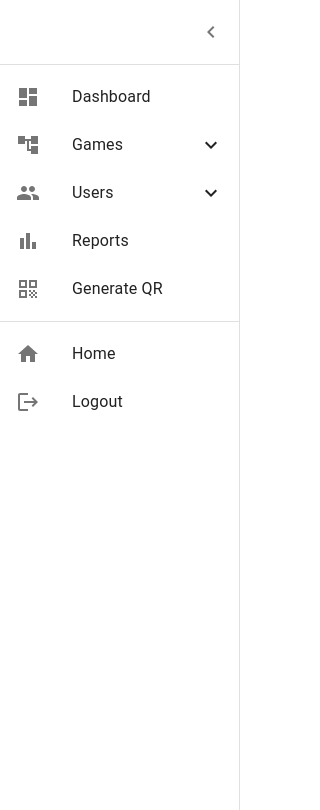
Test case: <SideMenu /> › User Management Button › should reveal 1 new button when clicked as an admin
Click the button with test id "user-manage-item". click: (93, 192)
box: [16,181,223,205]
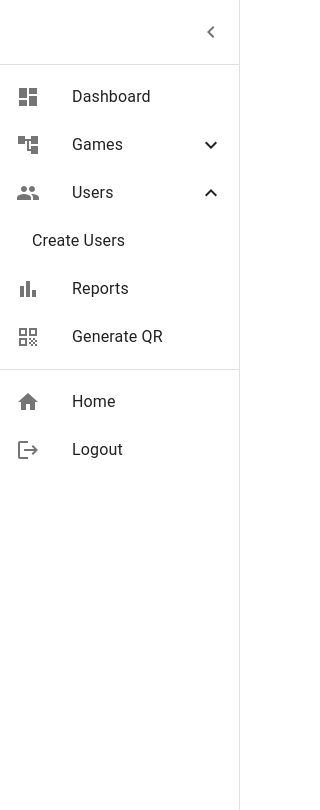
Check: the link with test id "user-create-item" is enabled, box [32,231,125,250]
